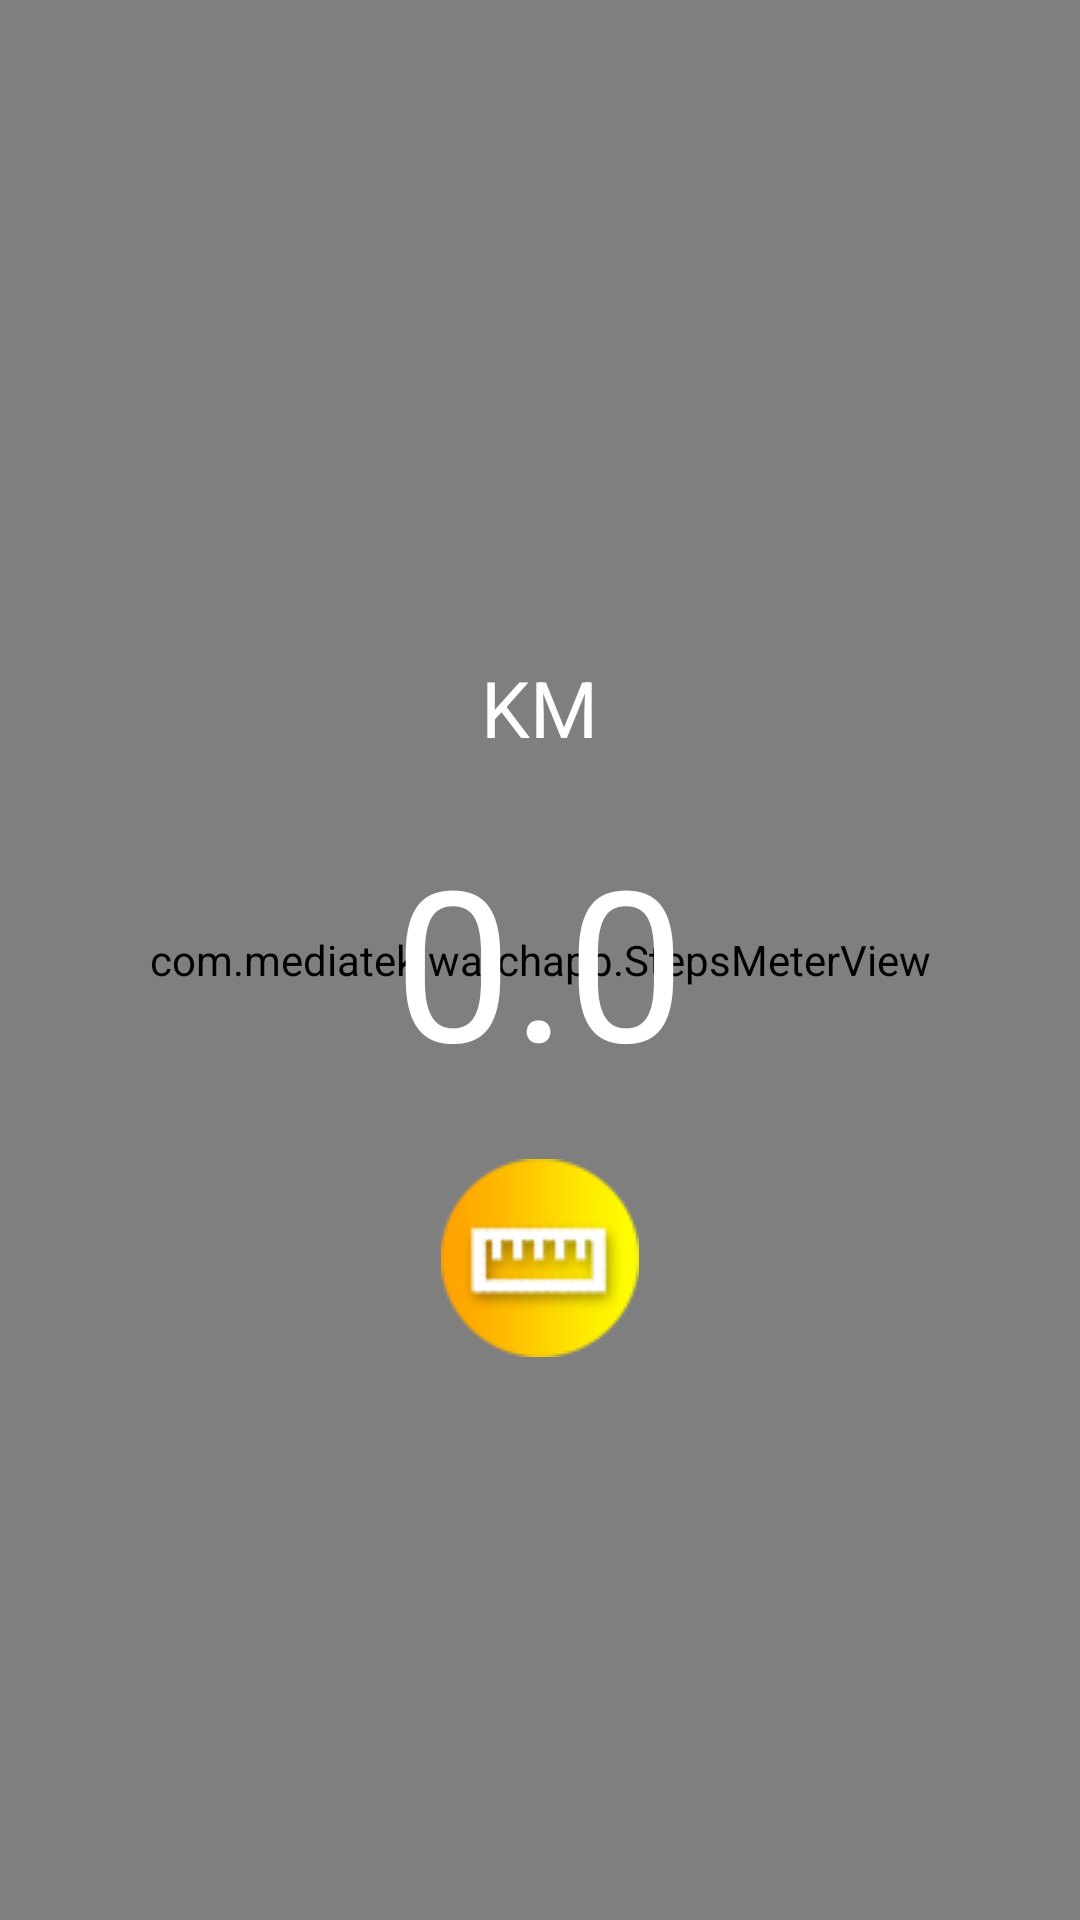

Locate icon controls on the screen. Image size 1080w x 1920h, boxes as bbox(x1, y1, x2, y2).
sport distance: bbox(441, 1159, 639, 1357)
